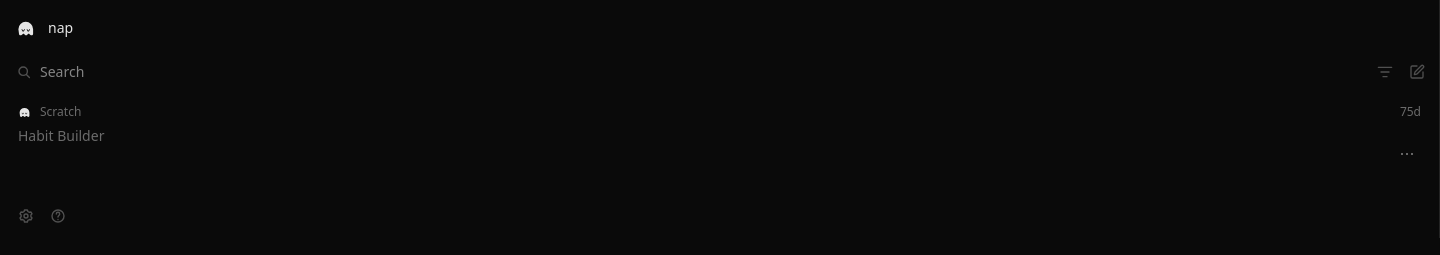
Test: the dashboard sidebar › says nothing about being busy when it is not
Click the button named "Settings" at {"x": 26, "y": 216}, box [12, 202, 40, 230]
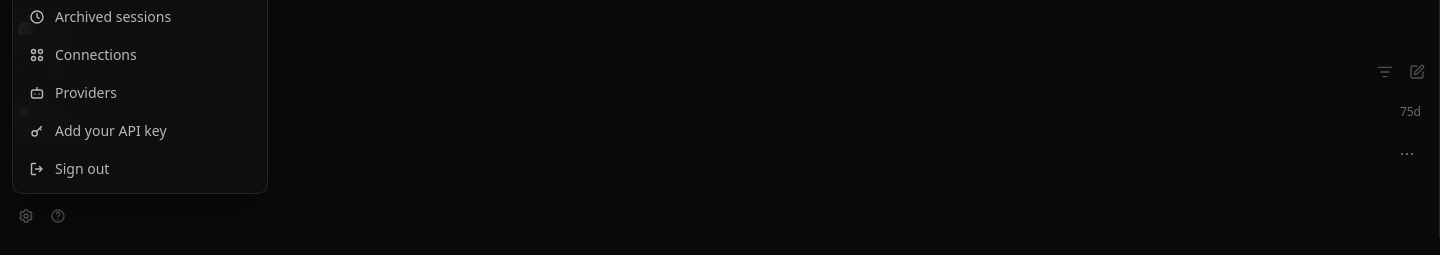
expect the menu item "Sign out" is enabled: met, box [19, 151, 261, 187]
